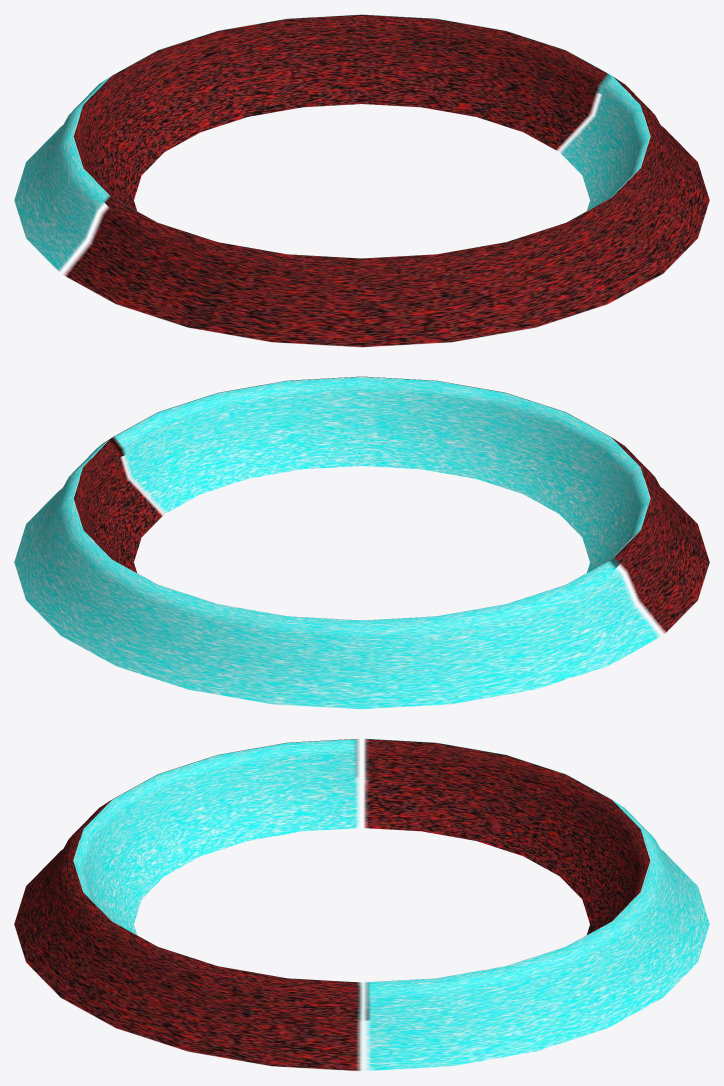
The picture shows the model from 3 angles, top to bottom: view 1: azimuth 30°, elevation 25°; view 2: azimuth 150°, elevation 25°; view 3: azimuth 270°, elevation 25°; orthographic projection.
Parts seen in each view (by area): view 1: SM_VFX_RaisedRing_LOD0; view 2: SM_VFX_RaisedRing_LOD0; view 3: SM_VFX_RaisedRing_LOD0.
Part boxes in pixels (x1,y1,x2,y2): SM_VFX_RaisedRing_LOD0: [14, 14, 709, 347]; SM_VFX_RaisedRing_LOD0: [14, 376, 709, 709]; SM_VFX_RaisedRing_LOD0: [14, 738, 709, 1070].
Size of the model in its own units: 2.91 by 0.2956 by 2.91.
Materials: 1 (1 with a texture image).
